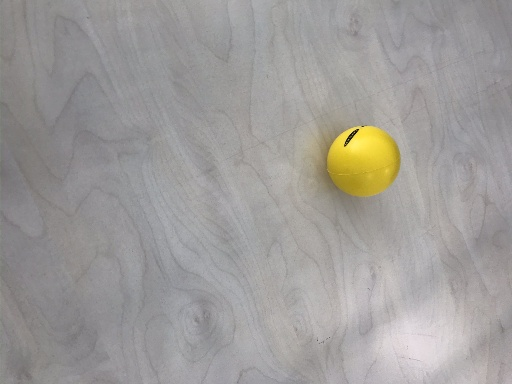Palla: (326, 122, 403, 199)
